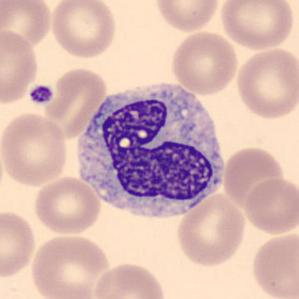Monocyte: (70, 74, 231, 224)
Platelets: (27, 83, 56, 107)
RBC: (173, 192, 248, 268), (28, 232, 111, 299), (0, 110, 70, 188), (41, 65, 109, 139), (233, 45, 298, 121), (169, 30, 240, 96), (220, 144, 288, 209), (31, 175, 103, 236), (48, 0, 118, 60), (217, 0, 296, 51), (248, 229, 298, 299), (243, 176, 298, 236), (0, 27, 40, 105), (91, 259, 169, 299), (0, 0, 54, 50), (0, 207, 37, 279), (153, 0, 221, 34)
